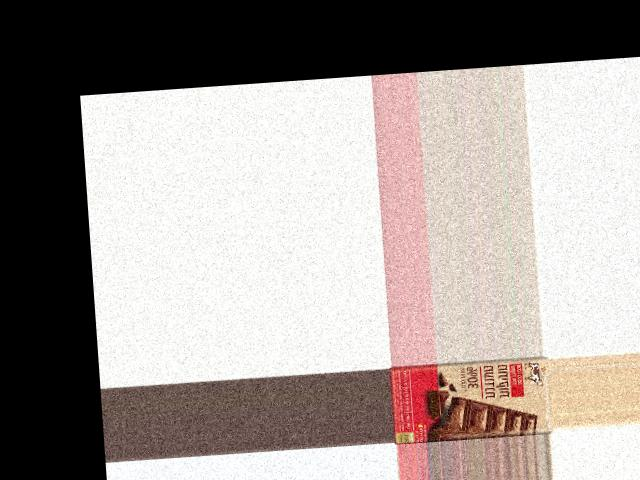chocolate: (390, 355, 553, 444)
